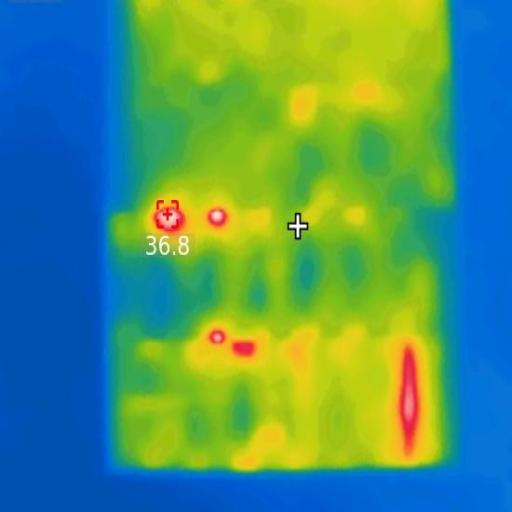hotspot: (398, 342, 420, 450), (147, 208, 188, 230), (206, 208, 232, 231), (232, 339, 260, 356), (208, 326, 226, 346)
